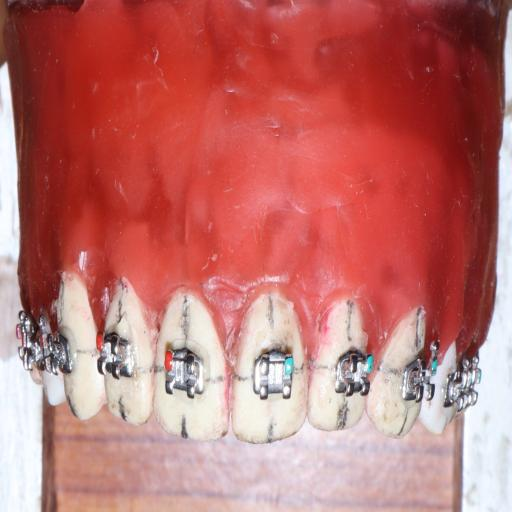correct_brace: (248, 344, 298, 405)
incorrect_brace: (158, 338, 209, 402)
